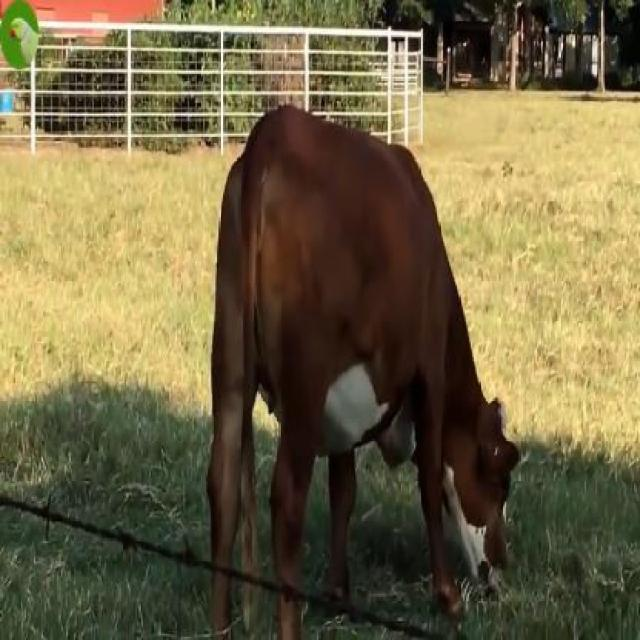Cow: (211, 112, 517, 638)
